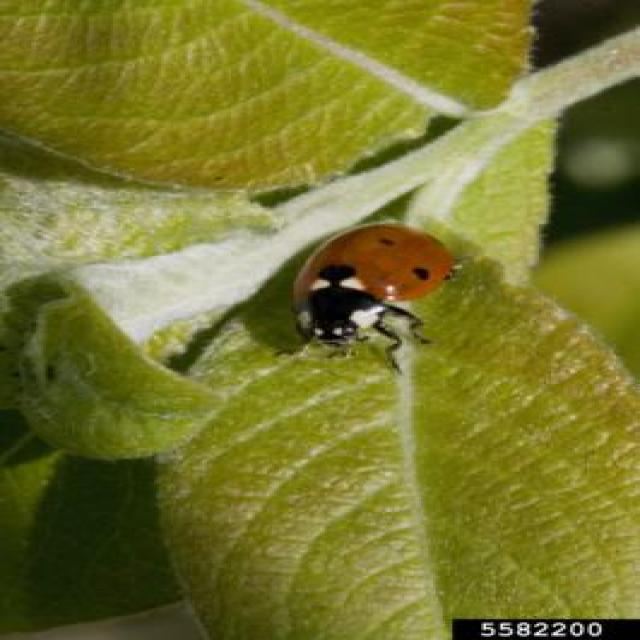body: (294, 226, 452, 342)
insect: (279, 225, 458, 374)
legs: (356, 303, 440, 372)
wings: (288, 224, 446, 302)
